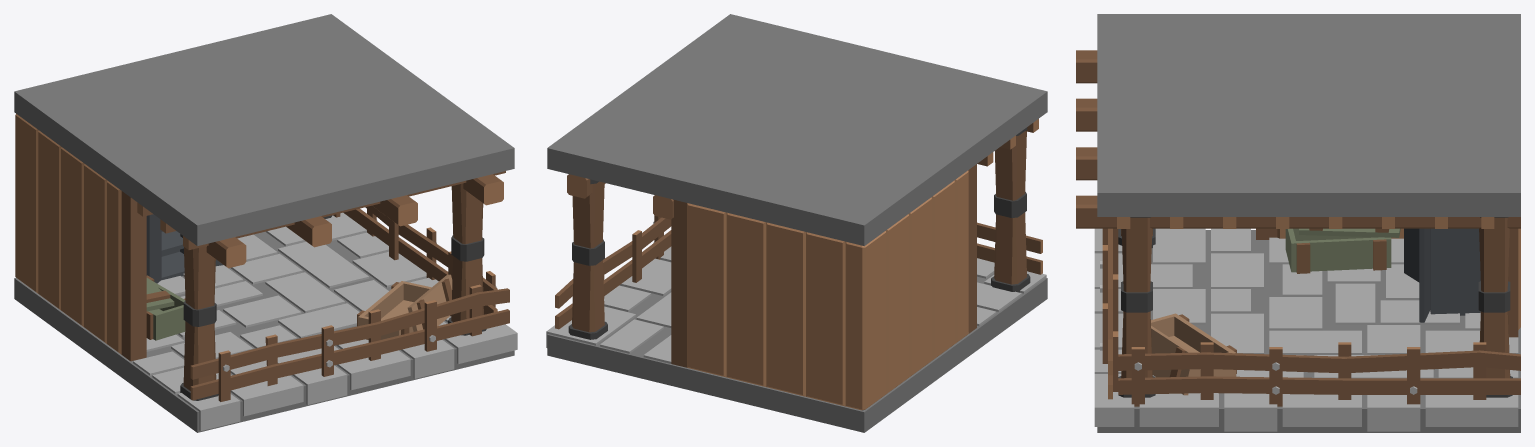
The model's file is WeaponStorage_Lvl_02_Corner.fbx.
3 renders of one model, left to right at view 1: azimuth 30°, elevation 25°; view 2: azimuth 150°, elevation 25°; view 3: azimuth 270°, elevation 25°, orthographic. The views are drawn at different scales.
Parts seen in each view (by area): view 1: WeaponStorage_Lvl_02_Corner; view 2: WeaponStorage_Lvl_02_Corner; view 3: WeaponStorage_Lvl_02_Corner.
Part boxes in pixels (x1,y1,x2,y2): WeaponStorage_Lvl_02_Corner: (14,14,517,432); WeaponStorage_Lvl_02_Corner: (546,14,1047,432); WeaponStorage_Lvl_02_Corner: (1076,14,1520,432).
Bounding box in the file's own units: 8.05 × 5 × 8.4.
